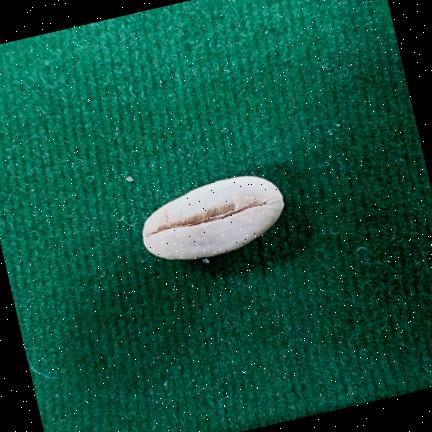husk: (143, 176, 284, 259)
